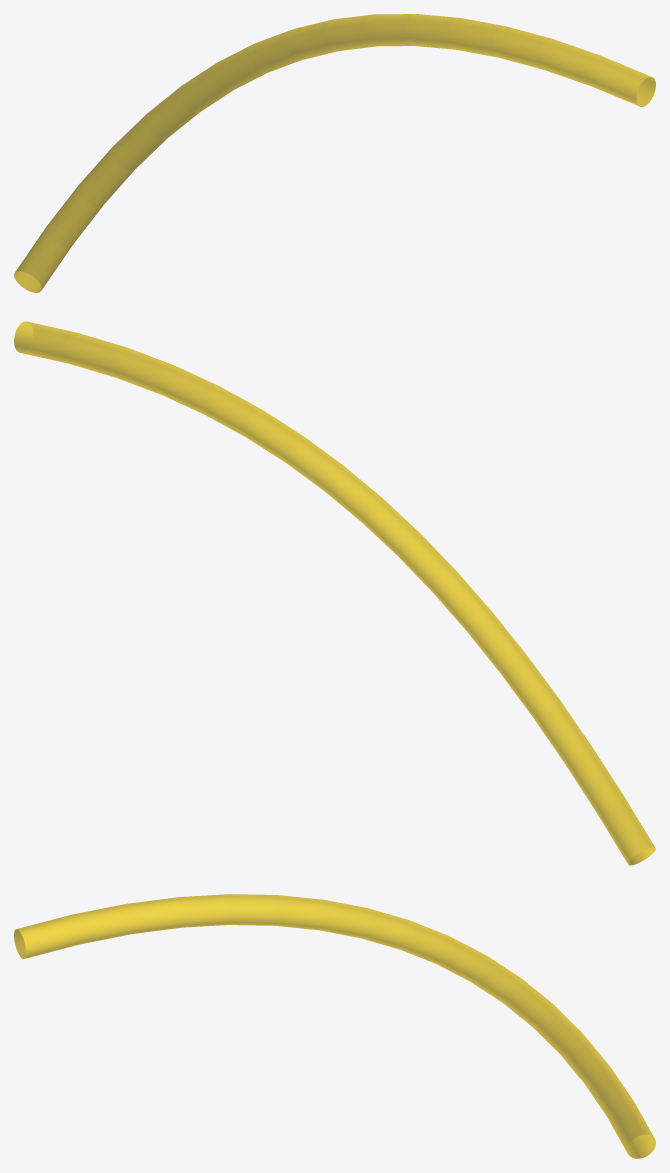
Rendered from Event_84804159_track_59.fbx.
3 views of the same model, one above another, from view 1: azimuth 30°, elevation 25°; view 2: azimuth 210°, elevation 25°; view 3: azimuth 270°, elevation 25° (orthographic). The views are drawn at different scales.
Parts seen in each view (by area): view 1: Model; view 2: Model; view 3: Model.
Part boxes in pixels (x1,y1,x2,y2): Model: (14, 14, 655, 292); Model: (14, 321, 655, 865); Model: (14, 894, 655, 1158).
Size of the model in its own units: 0.4602 by 0.5246 by 0.8293.
